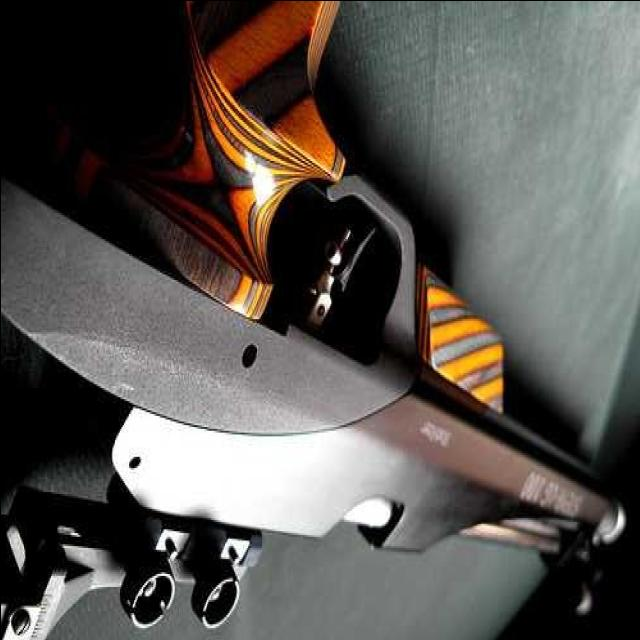heavyweapon: (1, 1, 632, 625)
